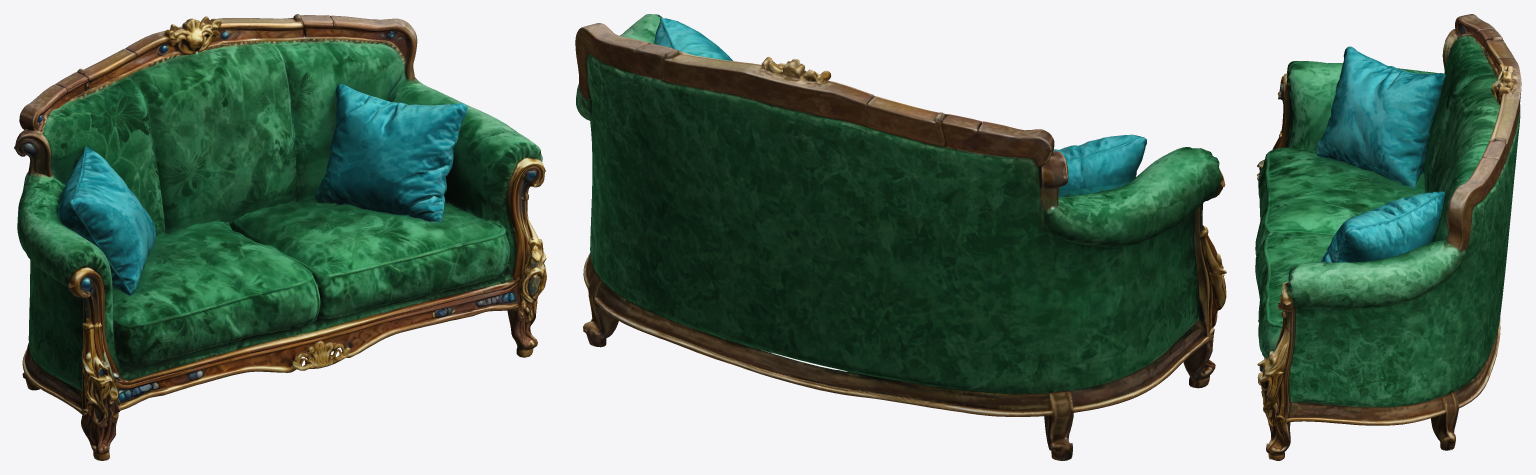
Rendered from velvet+sofa+3d+model.glb.
3 views of the same model, side by side, from view 1: azimuth 30°, elevation 25°; view 2: azimuth 150°, elevation 25°; view 3: azimuth 270°, elevation 25° (orthographic). The views are drawn at different scales.
Visible parts, largest first — view 1: tripo_node_0afe2972-0fd2-4501-9d94-77283c839f18; view 2: tripo_node_0afe2972-0fd2-4501-9d94-77283c839f18; view 3: tripo_node_0afe2972-0fd2-4501-9d94-77283c839f18.
Part boxes in pixels (box(x1,y1,x2,y2)): tripo_node_0afe2972-0fd2-4501-9d94-77283c839f18: box(14, 14, 546, 460); tripo_node_0afe2972-0fd2-4501-9d94-77283c839f18: box(575, 14, 1226, 460); tripo_node_0afe2972-0fd2-4501-9d94-77283c839f18: box(1255, 14, 1521, 460).
Bounding box in the file's own units: 0.98 × 0.5894 × 0.4931.
1 material, 1 textured.
